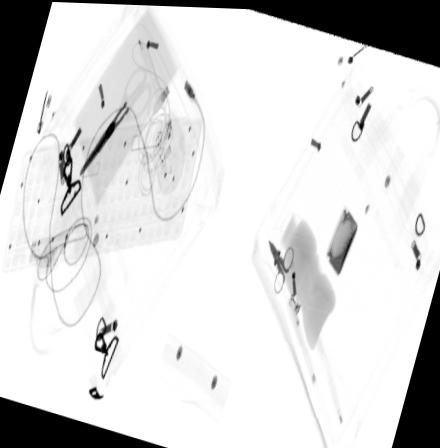Scissors: (79, 59, 152, 179), (268, 240, 296, 299)
